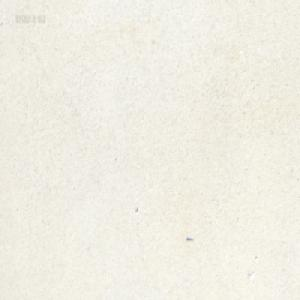Nail: (186, 236, 193, 241)
